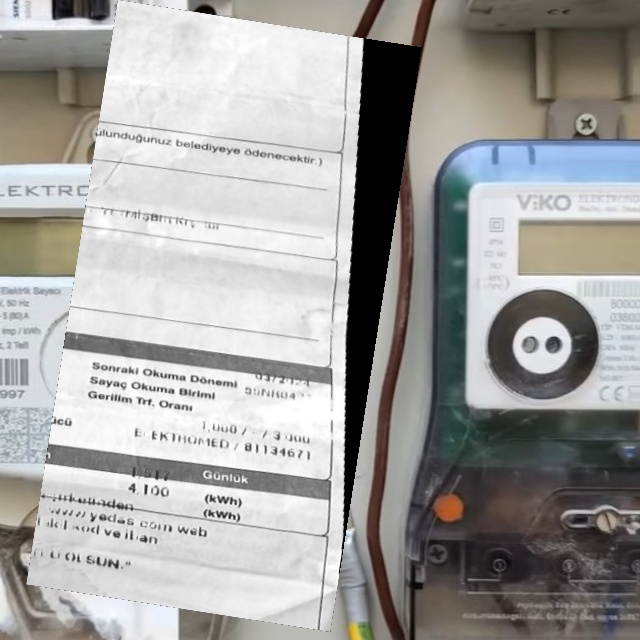electricity-bill: (26, 0, 422, 632)
